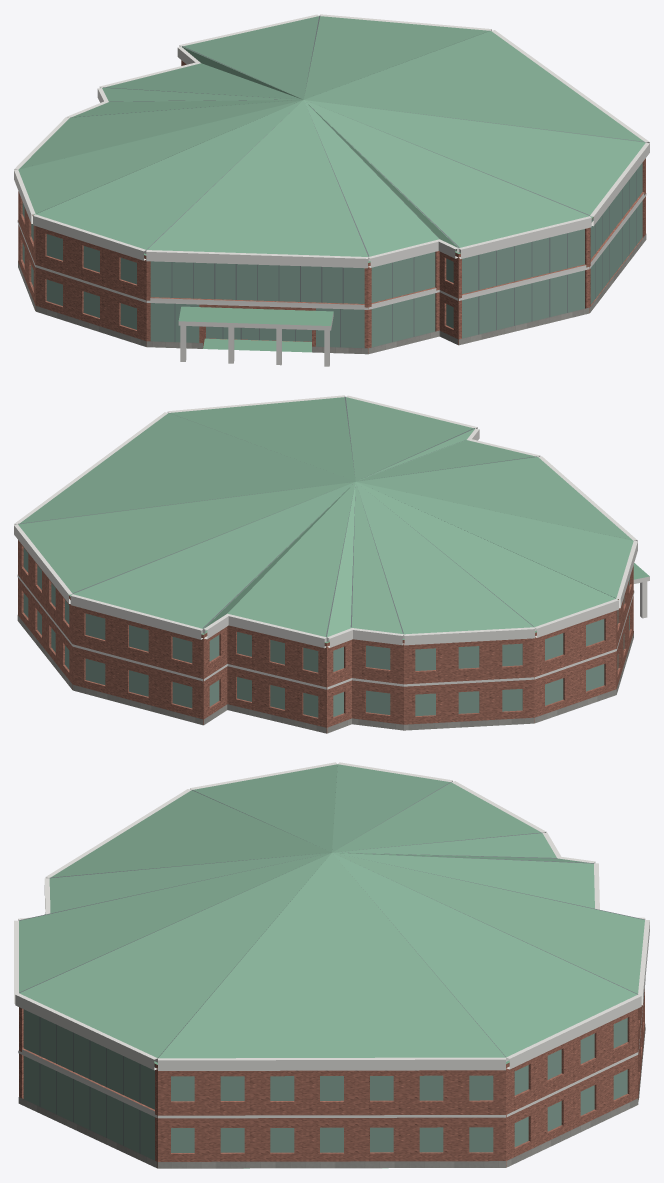
The picture shows the model from 3 angles, top to bottom: view 1: azimuth 30°, elevation 25°; view 2: azimuth 150°, elevation 25°; view 3: azimuth 270°, elevation 25°; orthographic projection. The views are drawn at different scales.
Parts seen in each view (by area): view 1: auditorium__roofGlass, auditorium__glass, auditorium__trim, auditorium__wall, auditorium__frame, auditorium__roof, auditorium__base, auditorium__spandrel, auditorium__column; view 2: auditorium__roofGlass, auditorium__wall, auditorium__glass, auditorium__trim, auditorium__base, auditorium__frame; view 3: auditorium__roofGlass, auditorium__wall, auditorium__glass, auditorium__trim, auditorium__base, auditorium__frame.
Part boxes in pixels (x1,y1,x2,y2): auditorium__roofGlass: (18,16,645,256); auditorium__glass: (22,163,642,348); auditorium__trim: (14,14,649,330); auditorium__wall: (18,60,645,353); auditorium__frame: (37,15,646,347); auditorium__roof: (34,214,593,352); auditorium__base: (18,234,646,354); auditorium__spandrel: (150,193,644,307); auditorium__column: (180,325,329,366); auditorium__roofGlass: (18,397,633,637); auditorium__wall: (18,540,633,733); auditorium__glass: (23,548,629,717); auditorium__trim: (14,395,649,689); auditorium__base: (17,615,633,733); auditorium__frame: (18,396,615,636); auditorium__roofGlass: (19,764,644,1058); auditorium__wall: (19,989,644,1167); auditorium__glass: (23,1009,627,1160); auditorium__trim: (14,762,649,1118); auditorium__base: (18,1024,645,1168); auditorium__frame: (19,766,644,1153).
Size of the model in its own units: 56.89 by 15.06 by 51.29.
11 materials, 2 textured.
